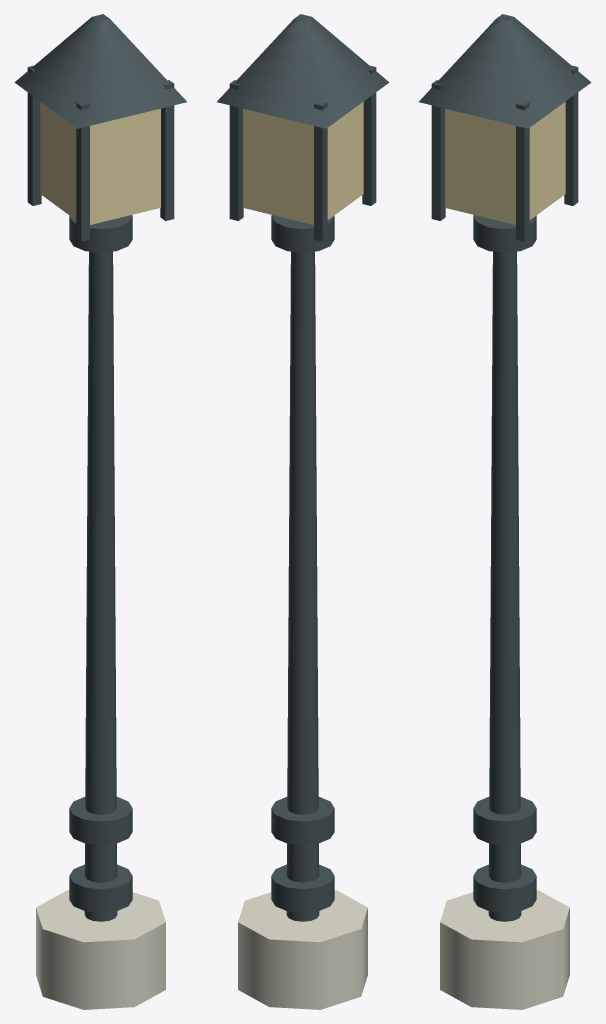
File: civic_lamp.glb
3 renders of one model, left to right at view 1: azimuth 30°, elevation 25°; view 2: azimuth 150°, elevation 25°; view 3: azimuth 330°, elevation 25°, orthographic.
Visible parts, largest first — view 1: SourceMesh_00001, SourceMesh_00000, SourceMesh_00005, SourceMesh_00010, SourceMesh_00003, SourceMesh_00002, SourceMesh_00004, SourceMesh_00007, SourceMesh_00009, SourceMesh_00006; view 2: SourceMesh_00001, SourceMesh_00000, SourceMesh_00005, SourceMesh_00010, SourceMesh_00003, SourceMesh_00002, SourceMesh_00004, SourceMesh_00006, SourceMesh_00008, SourceMesh_00007; view 3: SourceMesh_00001, SourceMesh_00000, SourceMesh_00005, SourceMesh_00010, SourceMesh_00003, SourceMesh_00002, SourceMesh_00004, SourceMesh_00009, SourceMesh_00007, SourceMesh_00008.
Boxes of the visible parts, x1,y1,x2,y2 form: SourceMesh_00001: (84, 251, 117, 921); SourceMesh_00000: (36, 890, 165, 1009); SourceMesh_00005: (40, 101, 160, 224); SourceMesh_00010: (14, 14, 186, 128); SourceMesh_00003: (69, 797, 132, 845); SourceMesh_00002: (69, 864, 132, 912); SourceMesh_00004: (69, 215, 132, 252); SourceMesh_00007: (76, 102, 89, 241); SourceMesh_00009: (160, 80, 174, 220); SourceMesh_00006: (27, 65, 41, 205); SourceMesh_00001: (286, 251, 319, 921); SourceMesh_00000: (238, 890, 367, 1009); SourceMesh_00005: (243, 101, 363, 224); SourceMesh_00010: (217, 14, 389, 128); SourceMesh_00003: (271, 797, 334, 845); SourceMesh_00002: (271, 864, 334, 912); SourceMesh_00004: (271, 215, 334, 252); SourceMesh_00006: (314, 102, 327, 241); SourceMesh_00008: (229, 80, 243, 220); SourceMesh_00007: (362, 65, 376, 205); SourceMesh_00001: (488, 251, 521, 921); SourceMesh_00000: (440, 890, 569, 1009); SourceMesh_00005: (445, 101, 565, 224); SourceMesh_00010: (419, 14, 591, 128); SourceMesh_00003: (473, 797, 536, 845); SourceMesh_00002: (473, 864, 536, 912); SourceMesh_00004: (473, 215, 536, 252); SourceMesh_00009: (516, 102, 529, 241); SourceMesh_00007: (431, 80, 445, 220); SourceMesh_00008: (564, 65, 578, 205).
Bounding box in the file's own units: 0.36 × 2.85 × 0.36.
